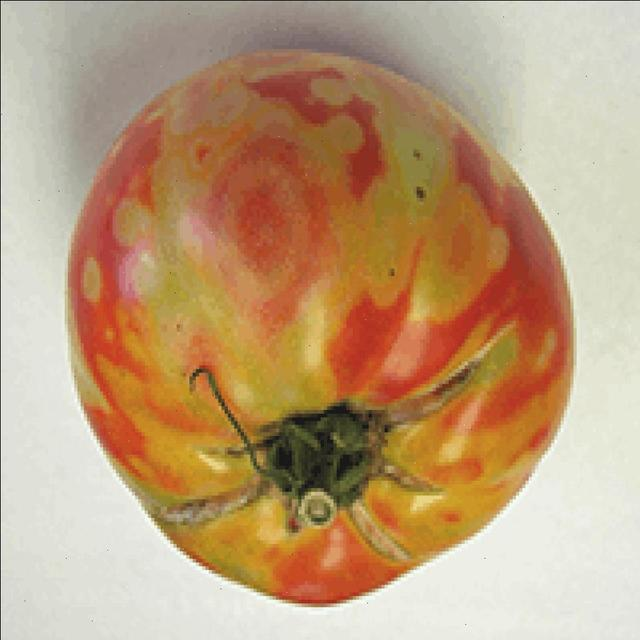Spotted wilt Virus Fruit: (22, 42, 67, 280)
